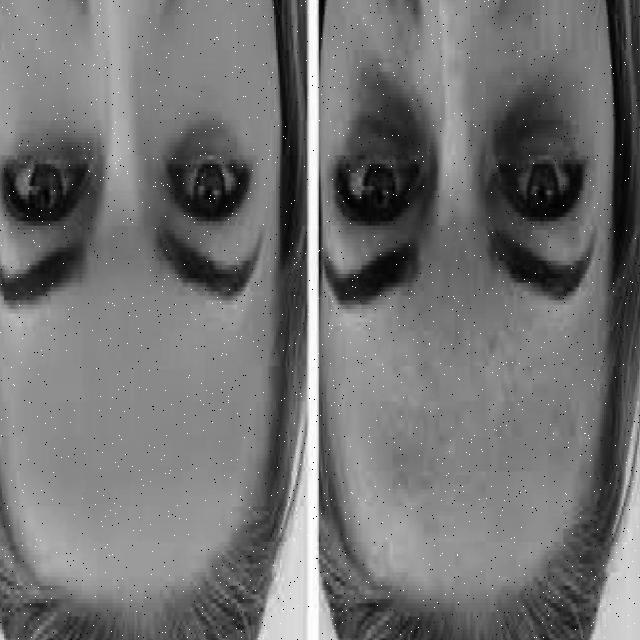puffy_eyes: (338, 60, 424, 159), (494, 81, 579, 154), (168, 126, 245, 164), (8, 133, 87, 154)
